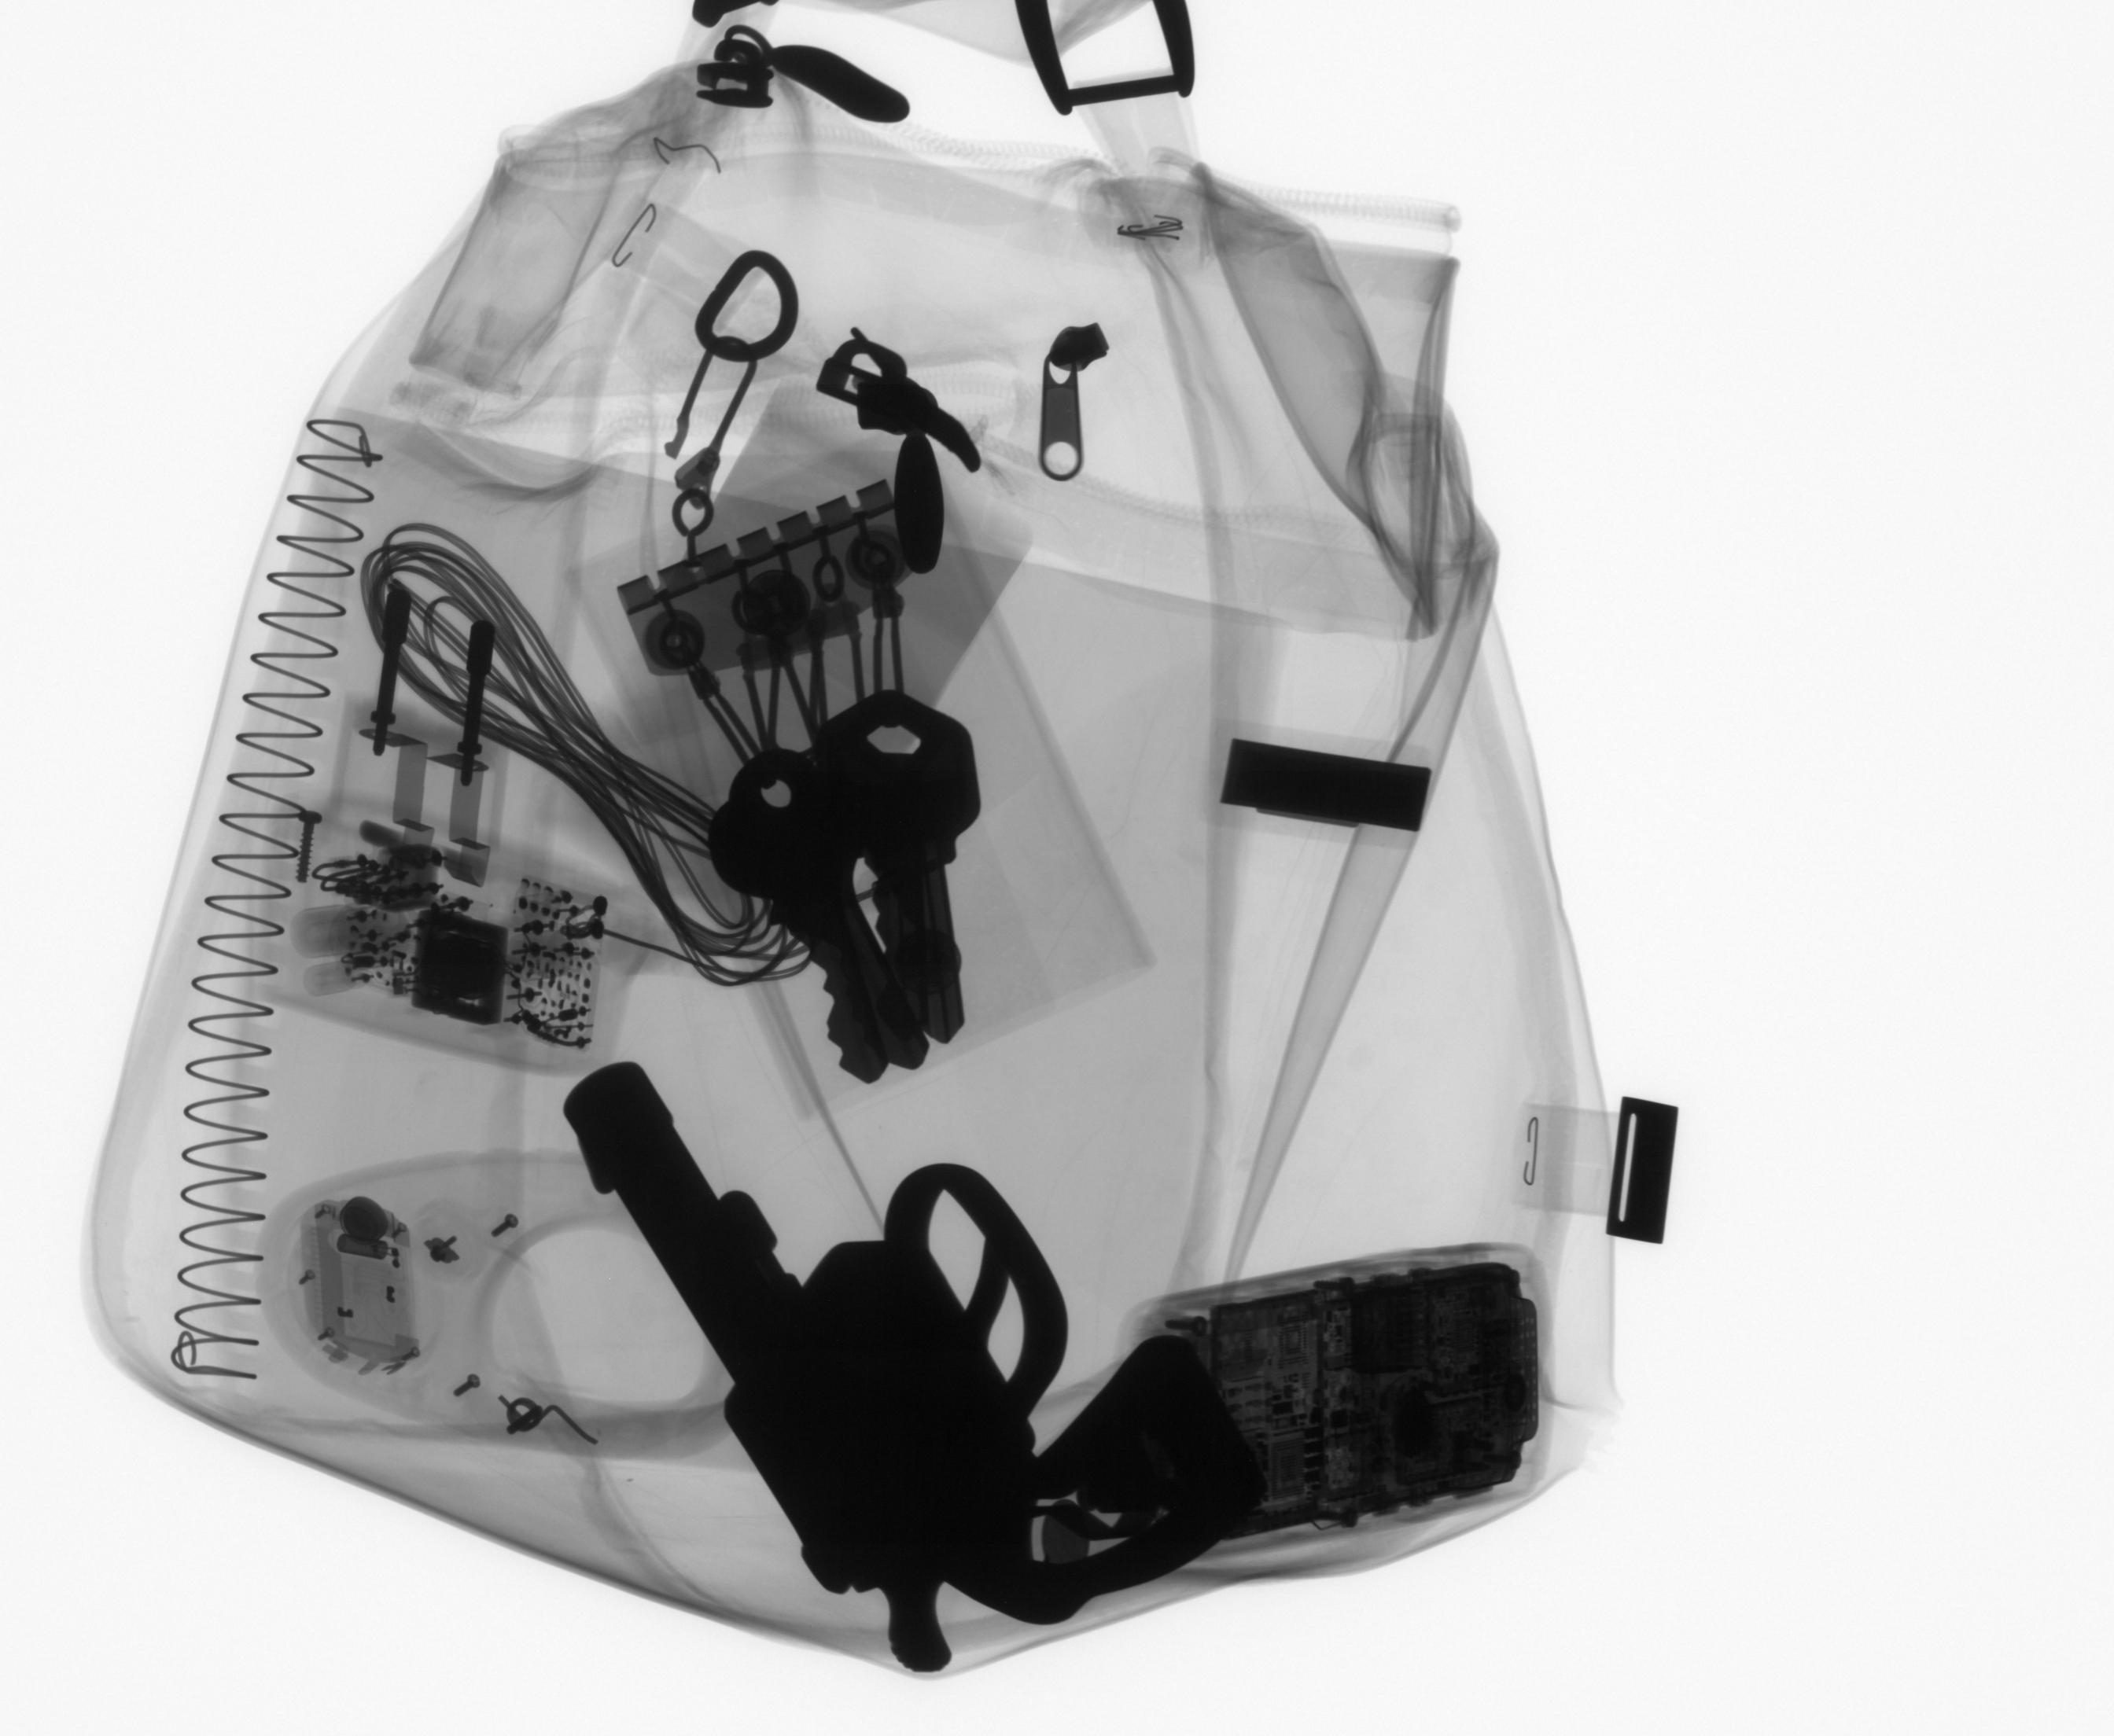Handgun: (556, 1049, 1275, 1686)
